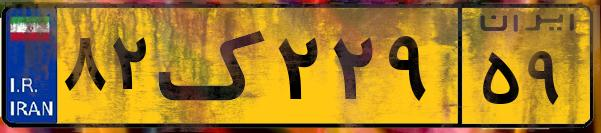2: (270, 28, 330, 110), (330, 28, 385, 110), (110, 28, 158, 98)
5: (475, 38, 525, 113)
8: (57, 26, 110, 100)
9: (385, 28, 445, 110), (525, 38, 570, 115)
ک: (158, 12, 270, 120)
